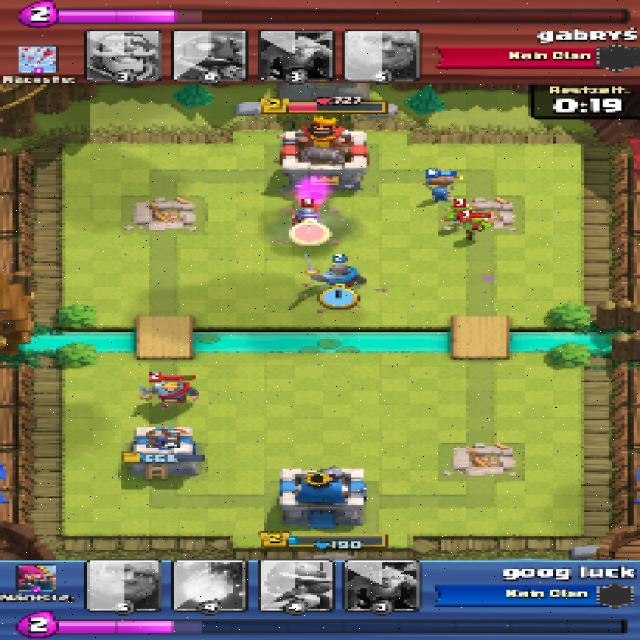Enemy-Goblin: (457, 216, 491, 242), (444, 204, 474, 223)
Enemy-Knight: (134, 380, 200, 410)
Enemy-Musketeer: (294, 204, 322, 234)
Player-Knight: (304, 254, 366, 291)
Player-Wallbreaker: (422, 169, 464, 201)
